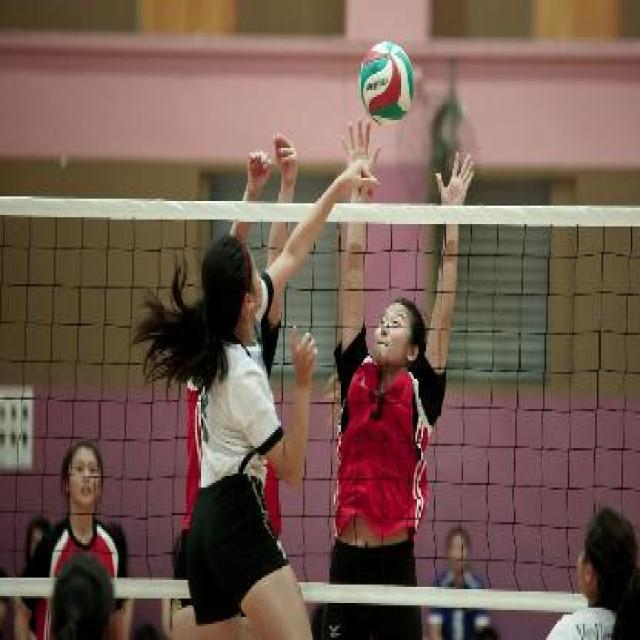volleyball: (359, 41, 416, 126)
